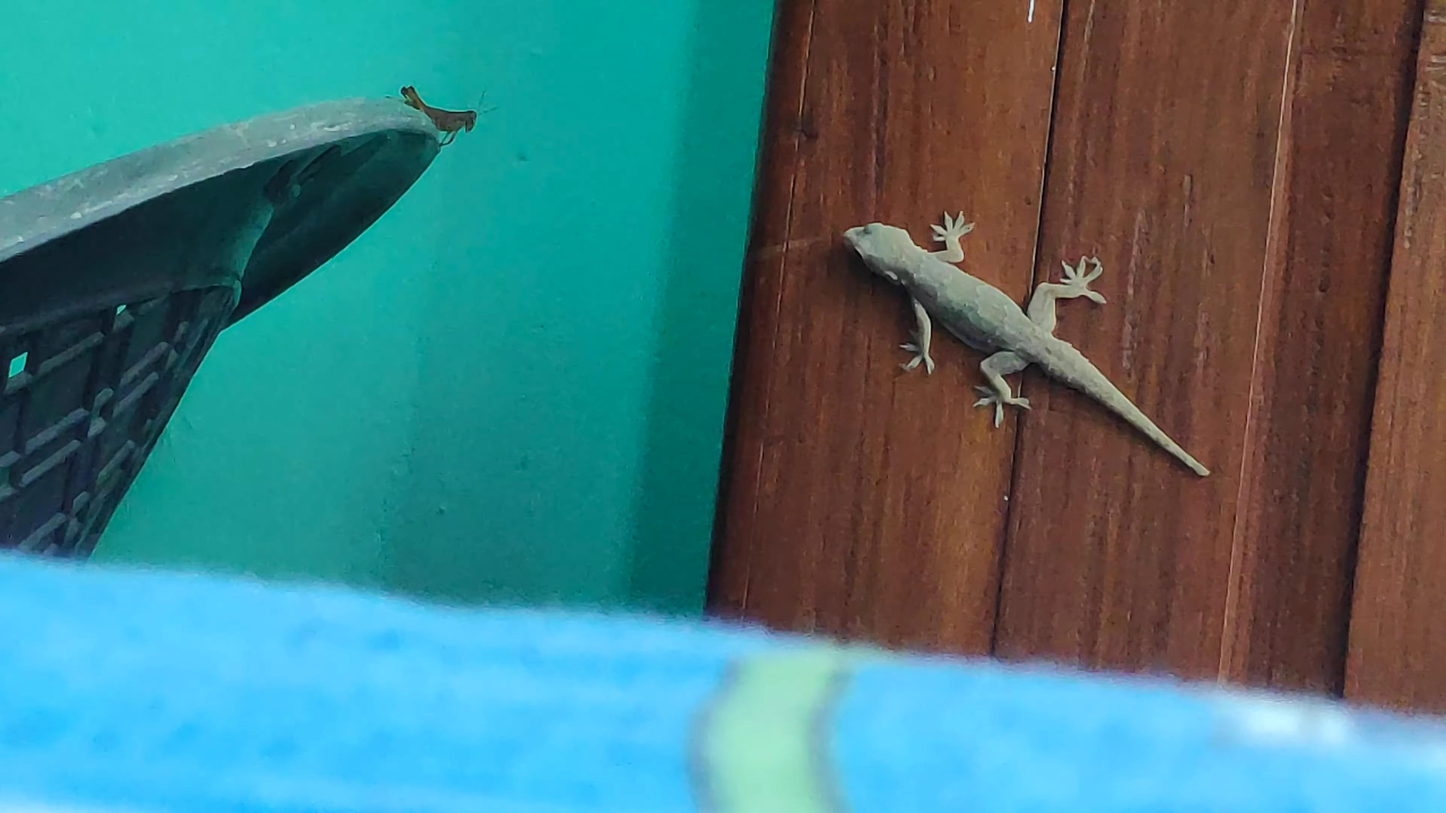lizard: (836, 209, 1209, 479)
